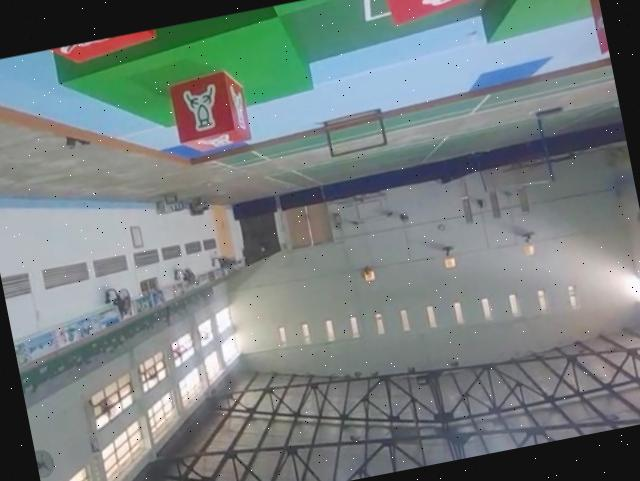R1: (6, 27, 165, 81)
R2 Real: (167, 67, 257, 157), (374, 0, 545, 27)
